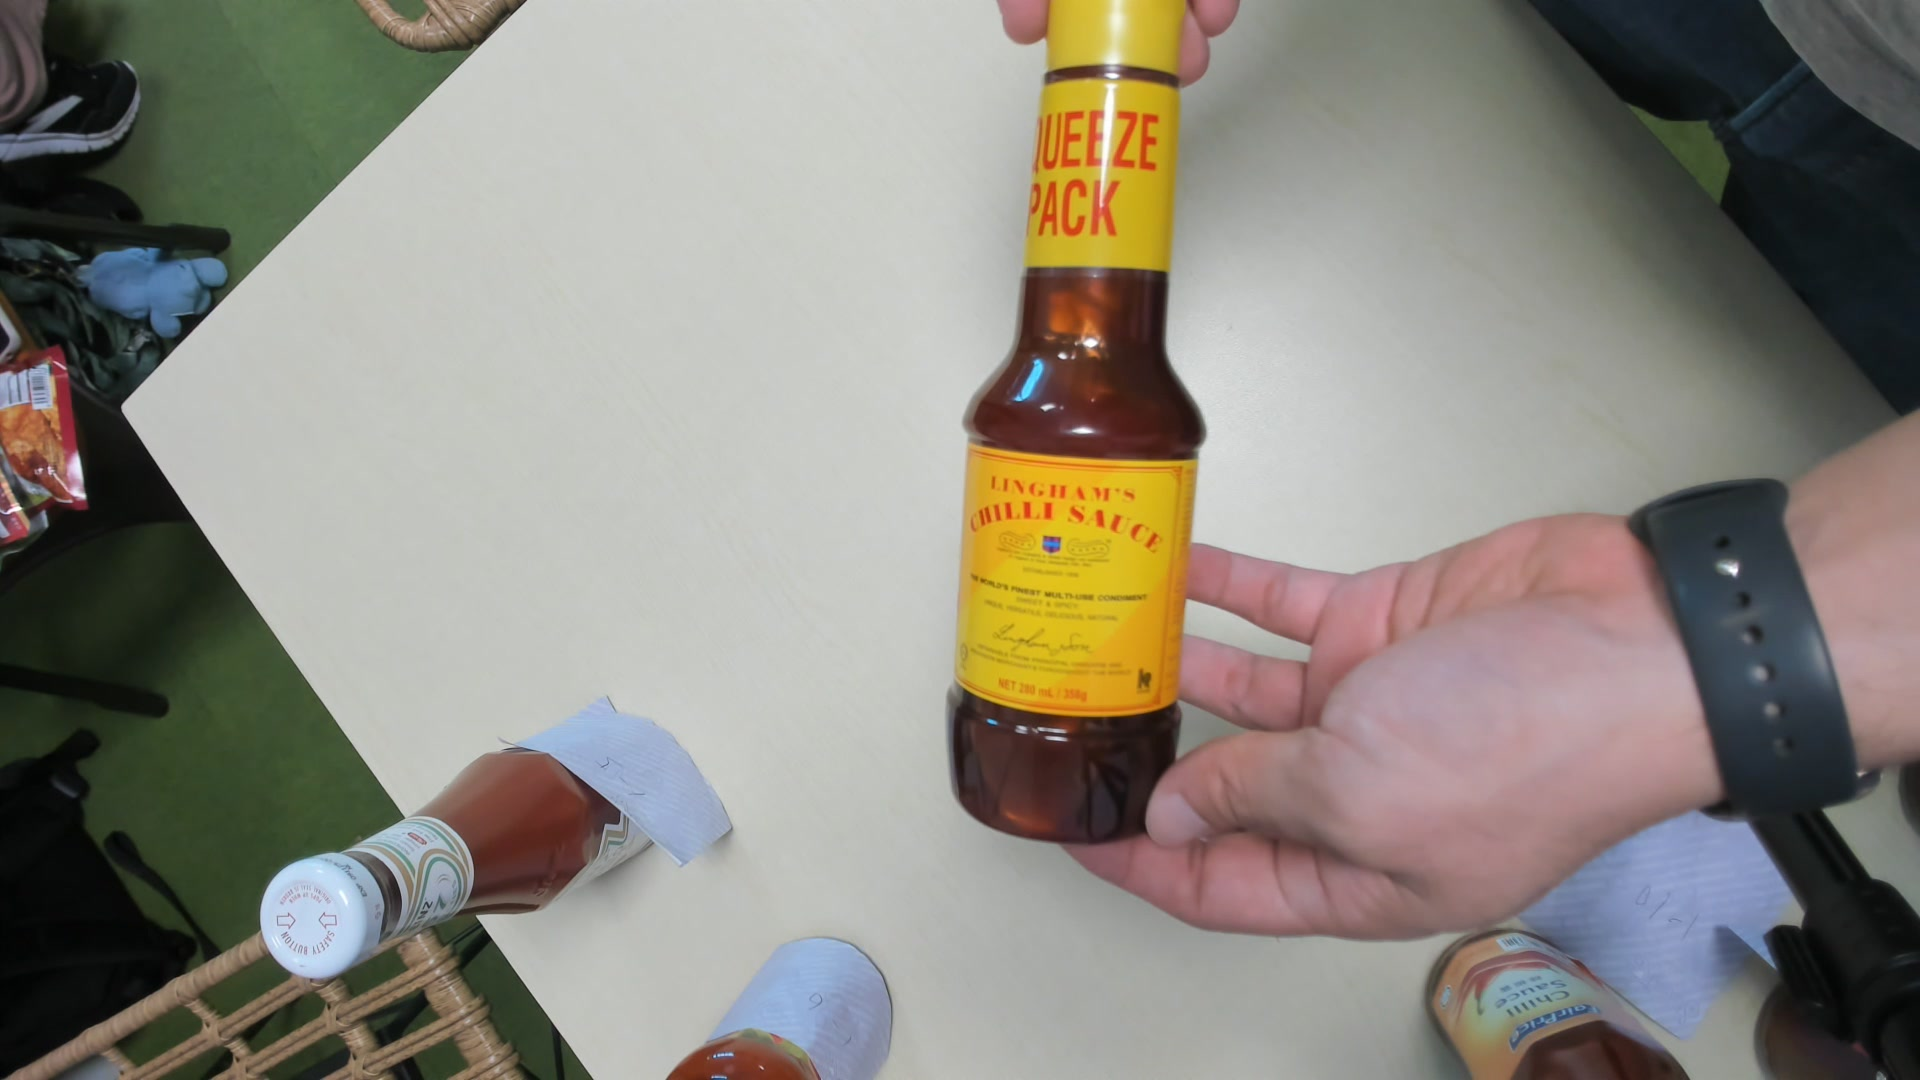KetchupChillSauce_300-399g_Halal_NonHealthy: (949, 3, 1215, 849)
